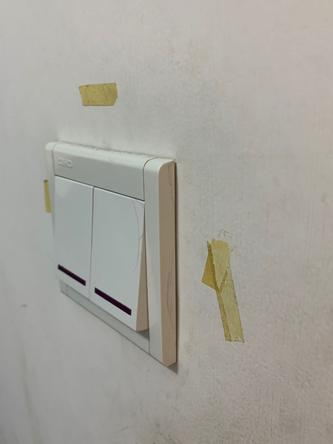switch: (45, 177, 91, 286), (97, 193, 134, 323)
